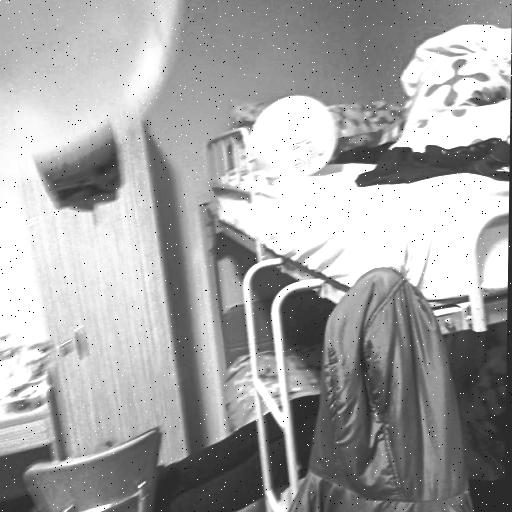balloon: (0, 0, 190, 164), (249, 96, 338, 178)
